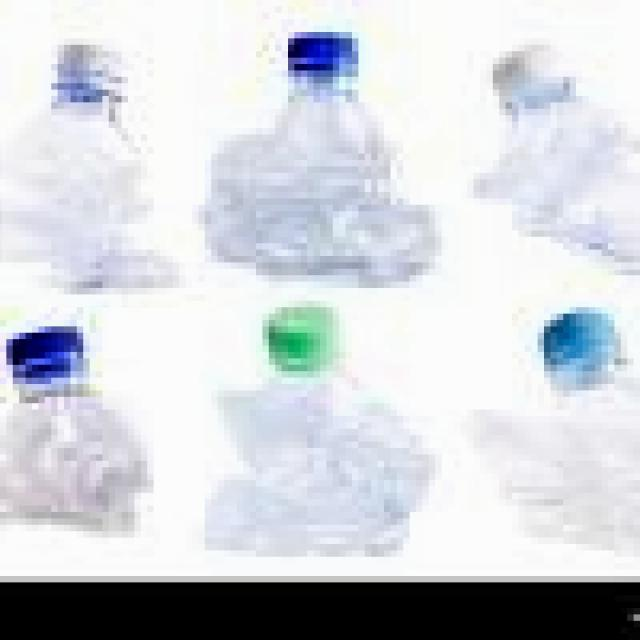bottle: (177, 288, 439, 570), (195, 32, 444, 297), (2, 29, 189, 307), (458, 297, 640, 557), (456, 29, 640, 270), (0, 306, 171, 544)
cap: (533, 304, 636, 371), (269, 26, 371, 87), (6, 318, 90, 388), (256, 303, 350, 362), (41, 40, 128, 95)
